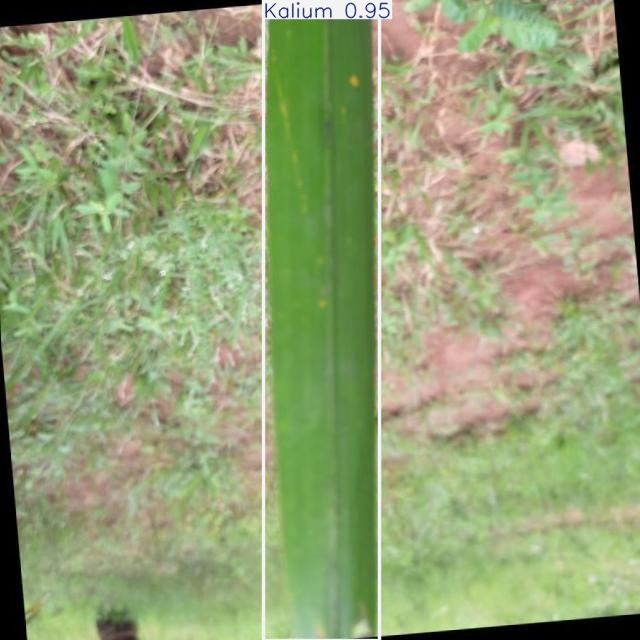Kalium: (264, 0, 379, 640)
